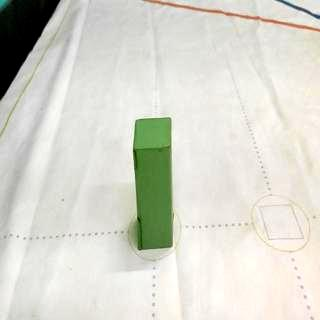greenbox: (132, 115, 176, 252)
